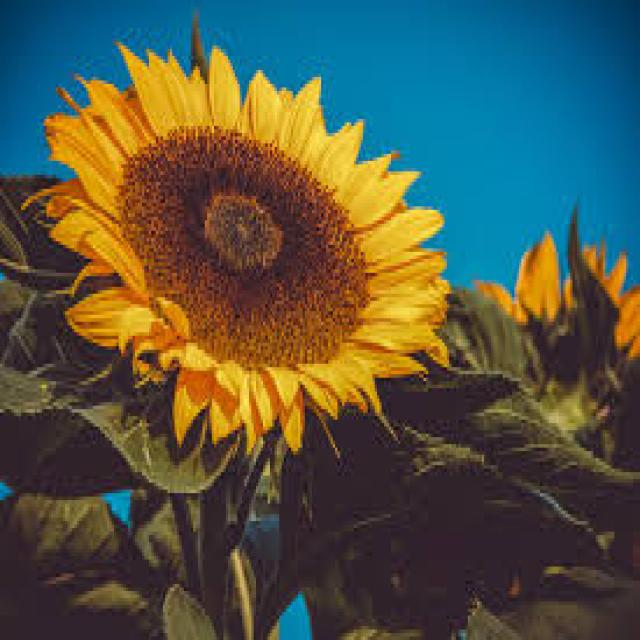sunflower: (18, 32, 464, 478), (466, 217, 640, 414)
